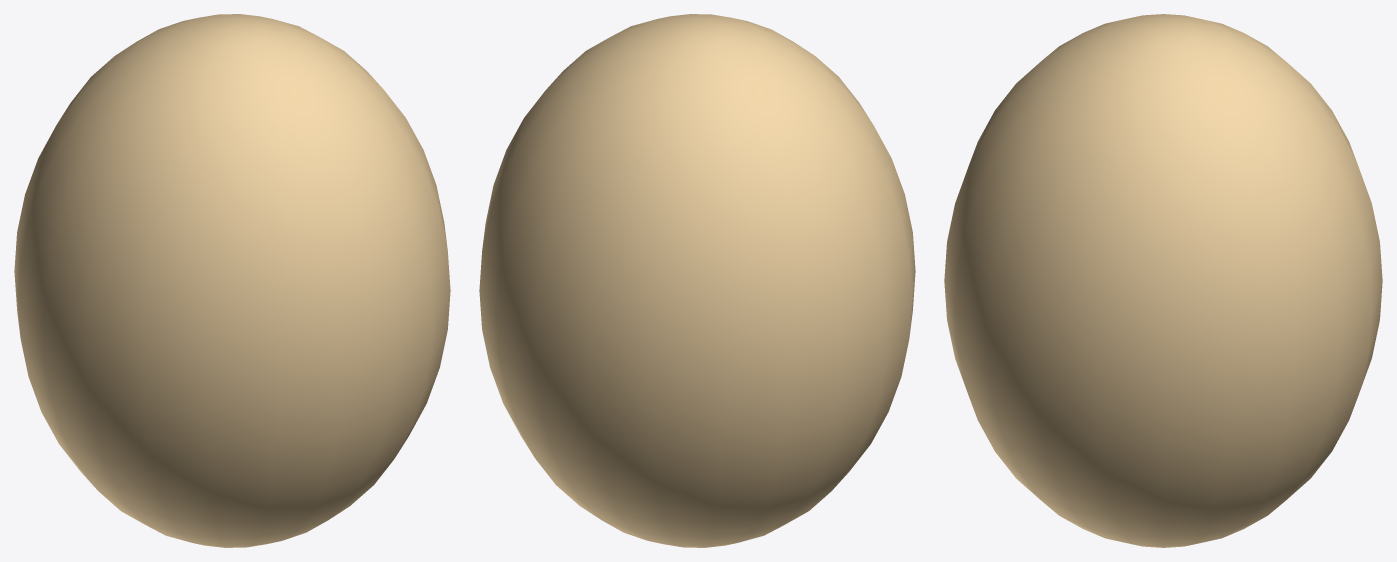
Rendered from Egg.fbx.
The picture shows the model from 3 angles, left to right: view 1: azimuth 30°, elevation 25°; view 2: azimuth 150°, elevation 25°; view 3: azimuth 270°, elevation 25°; orthographic projection.
Visible parts, largest first — view 1: Raw_Egg; view 2: Raw_Egg; view 3: Raw_Egg.
Part boxes in pixels (x1=…): Raw_Egg: x1=14, y1=14, x2=450, y2=547; Raw_Egg: x1=479, y1=14, x2=915, y2=547; Raw_Egg: x1=944, y1=14, x2=1382, y2=547.
Bounding box in the file's own units: 0.0637 × 0.0803 × 0.0637.
